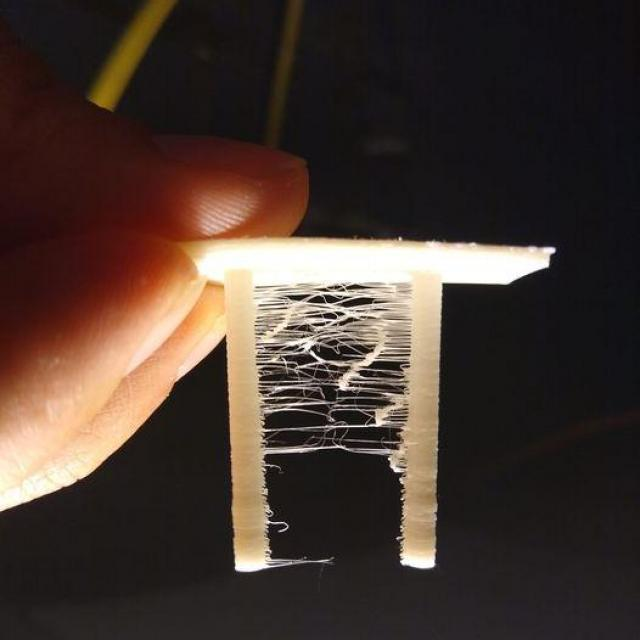Stringing: (257, 282, 339, 373), (333, 278, 411, 366), (349, 366, 403, 424), (268, 436, 397, 456), (267, 374, 323, 420)
